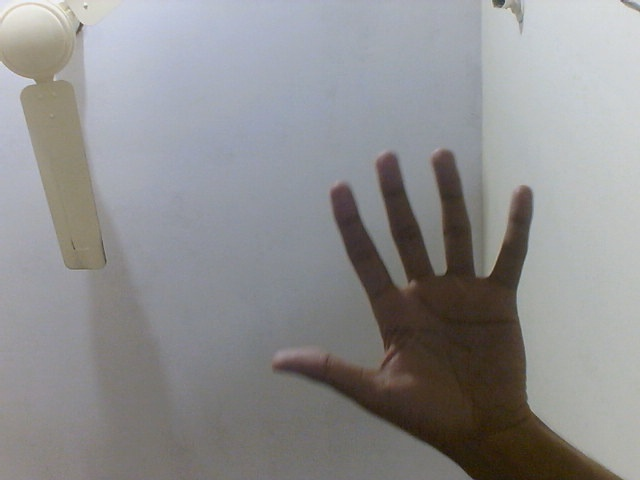hand: (260, 146, 545, 450)
